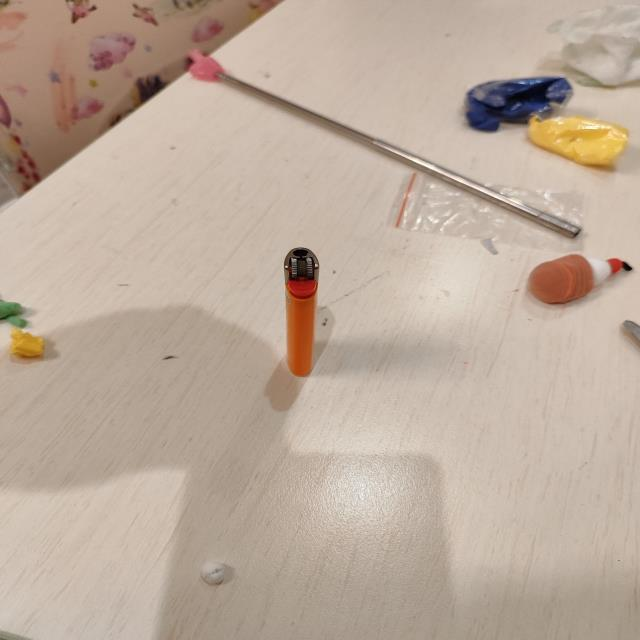lighter: (286, 248, 318, 377)
